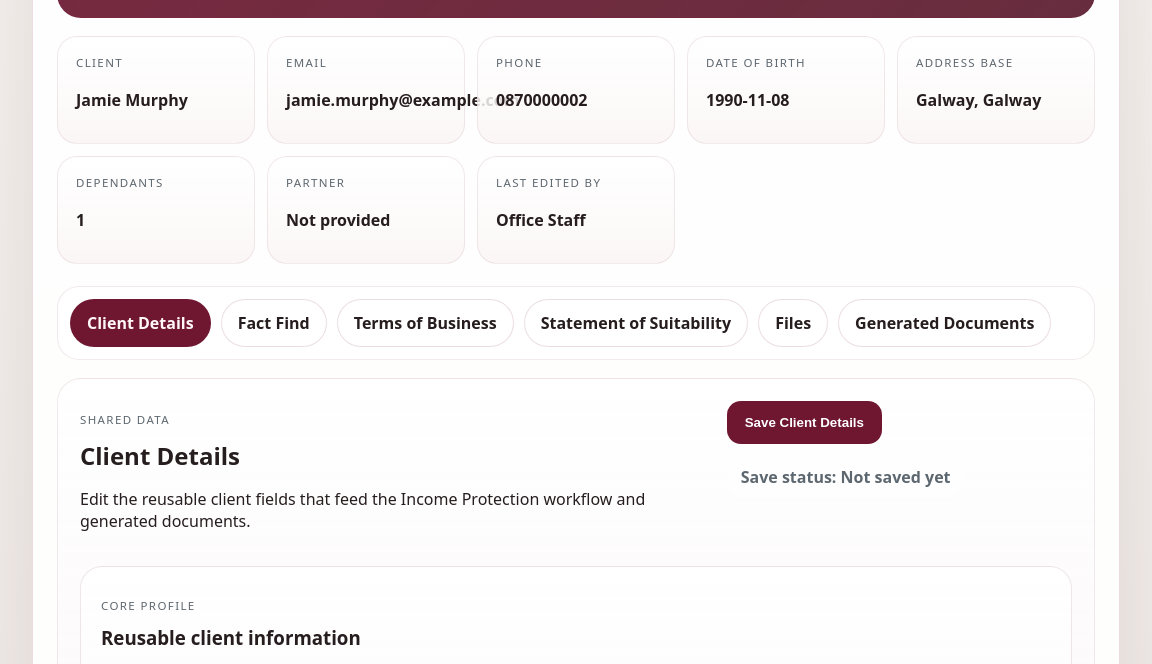
Test: App routes › renders the Files tab with client folder layout and seeded file metadata
(page scrolled)
Click the tab "Files": click(793, 323) [758,299,828,347]
(page scrolled)
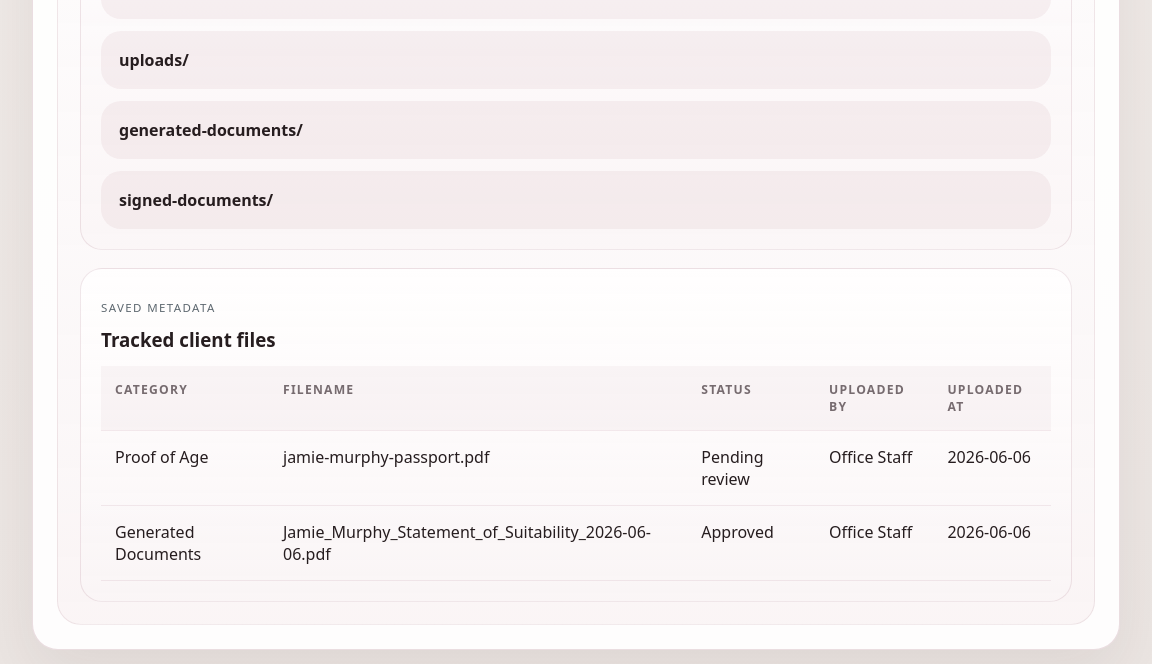
Check: the text "Proof of Age" is shown, box [101,430,269,505]
Check: the text "Pending review" is shown, box [687,430,815,505]
